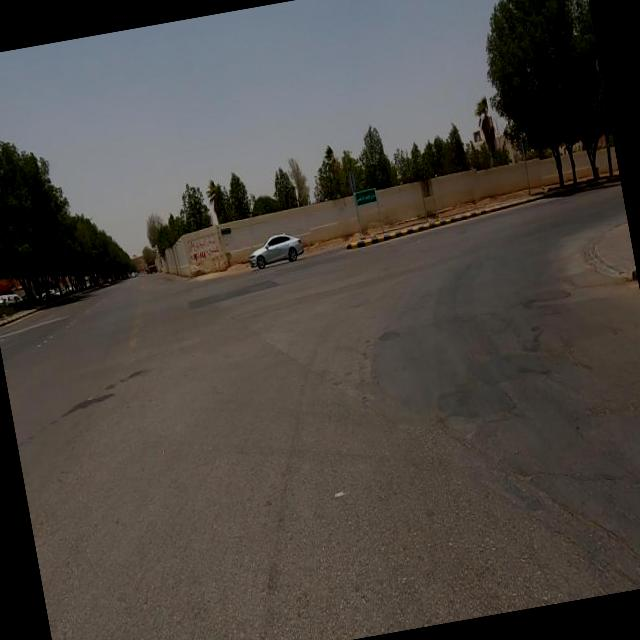debris: (156, 210, 254, 296)
